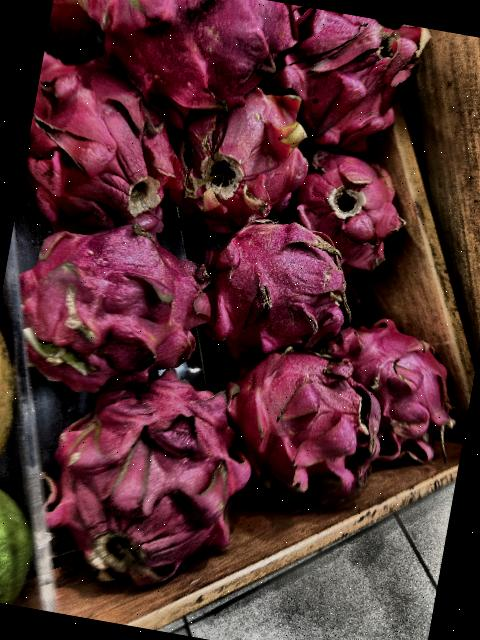buah-naga-matang: (33, 366, 265, 590), (1, 196, 216, 387), (18, 48, 182, 222), (217, 341, 382, 499), (200, 200, 362, 357), (316, 311, 480, 466), (62, 0, 284, 113), (271, 5, 419, 156), (180, 82, 317, 220), (289, 143, 408, 272)
